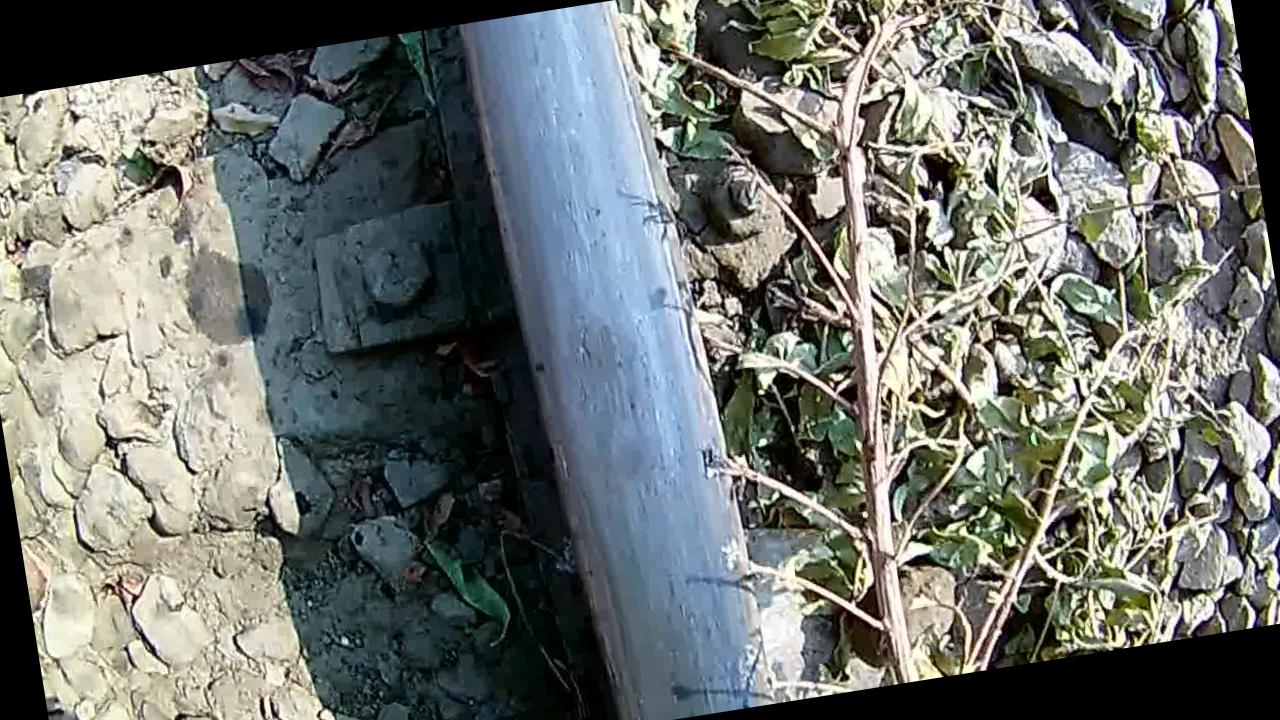bolt_missing: (522, 279, 706, 540)
